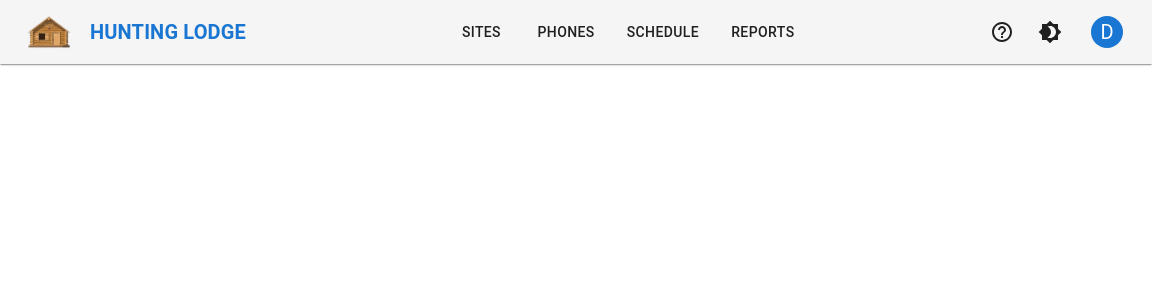
Test: Navbar About Dialog Integration › does not render About & Support in the account menu to avoid duplicate links
// Click on the user avatar to open the account menu
Click the button named "Account menu and group switcher".
click(1107, 32)  # box [1086,11,1128,53]
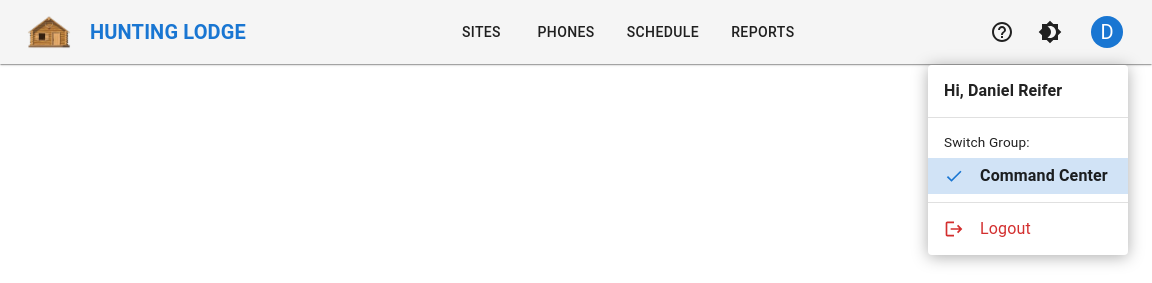
Check: the menu is shown, box [928,65,1128,255]
